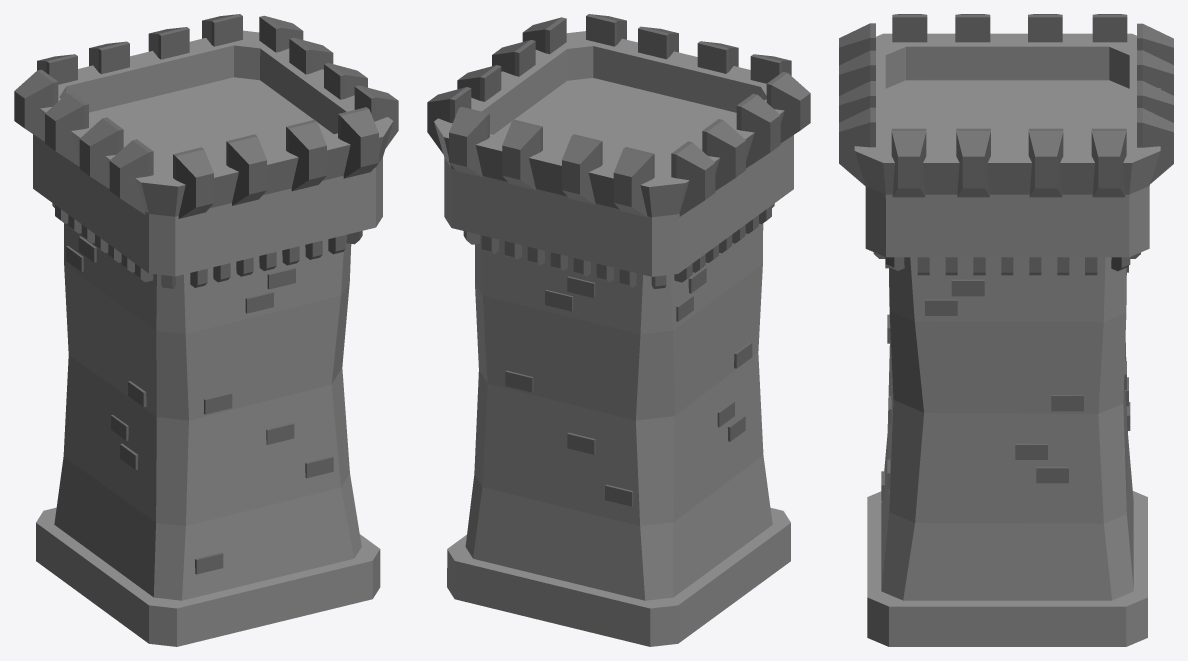
The model's file is kit-castle-tower-2.glb.
The picture shows the model from 3 angles, left to right: view 1: azimuth 30°, elevation 25°; view 2: azimuth 150°, elevation 25°; view 3: azimuth 270°, elevation 25°; orthographic projection. The views are drawn at different scales.
Parts seen in each view (by area): view 1: Cube.174; view 2: Cube.174; view 3: Cube.174.
Boxes of the visible parts, left/top/right/bottom form: Cube.174: left=14, top=14, right=398, bottom=646; Cube.174: left=427, top=14, right=810, bottom=646; Cube.174: left=839, top=14, right=1173, bottom=646.
Bounding box in the file's own units: 6.24 × 10.49 × 6.19.
1 material, 1 textured.
